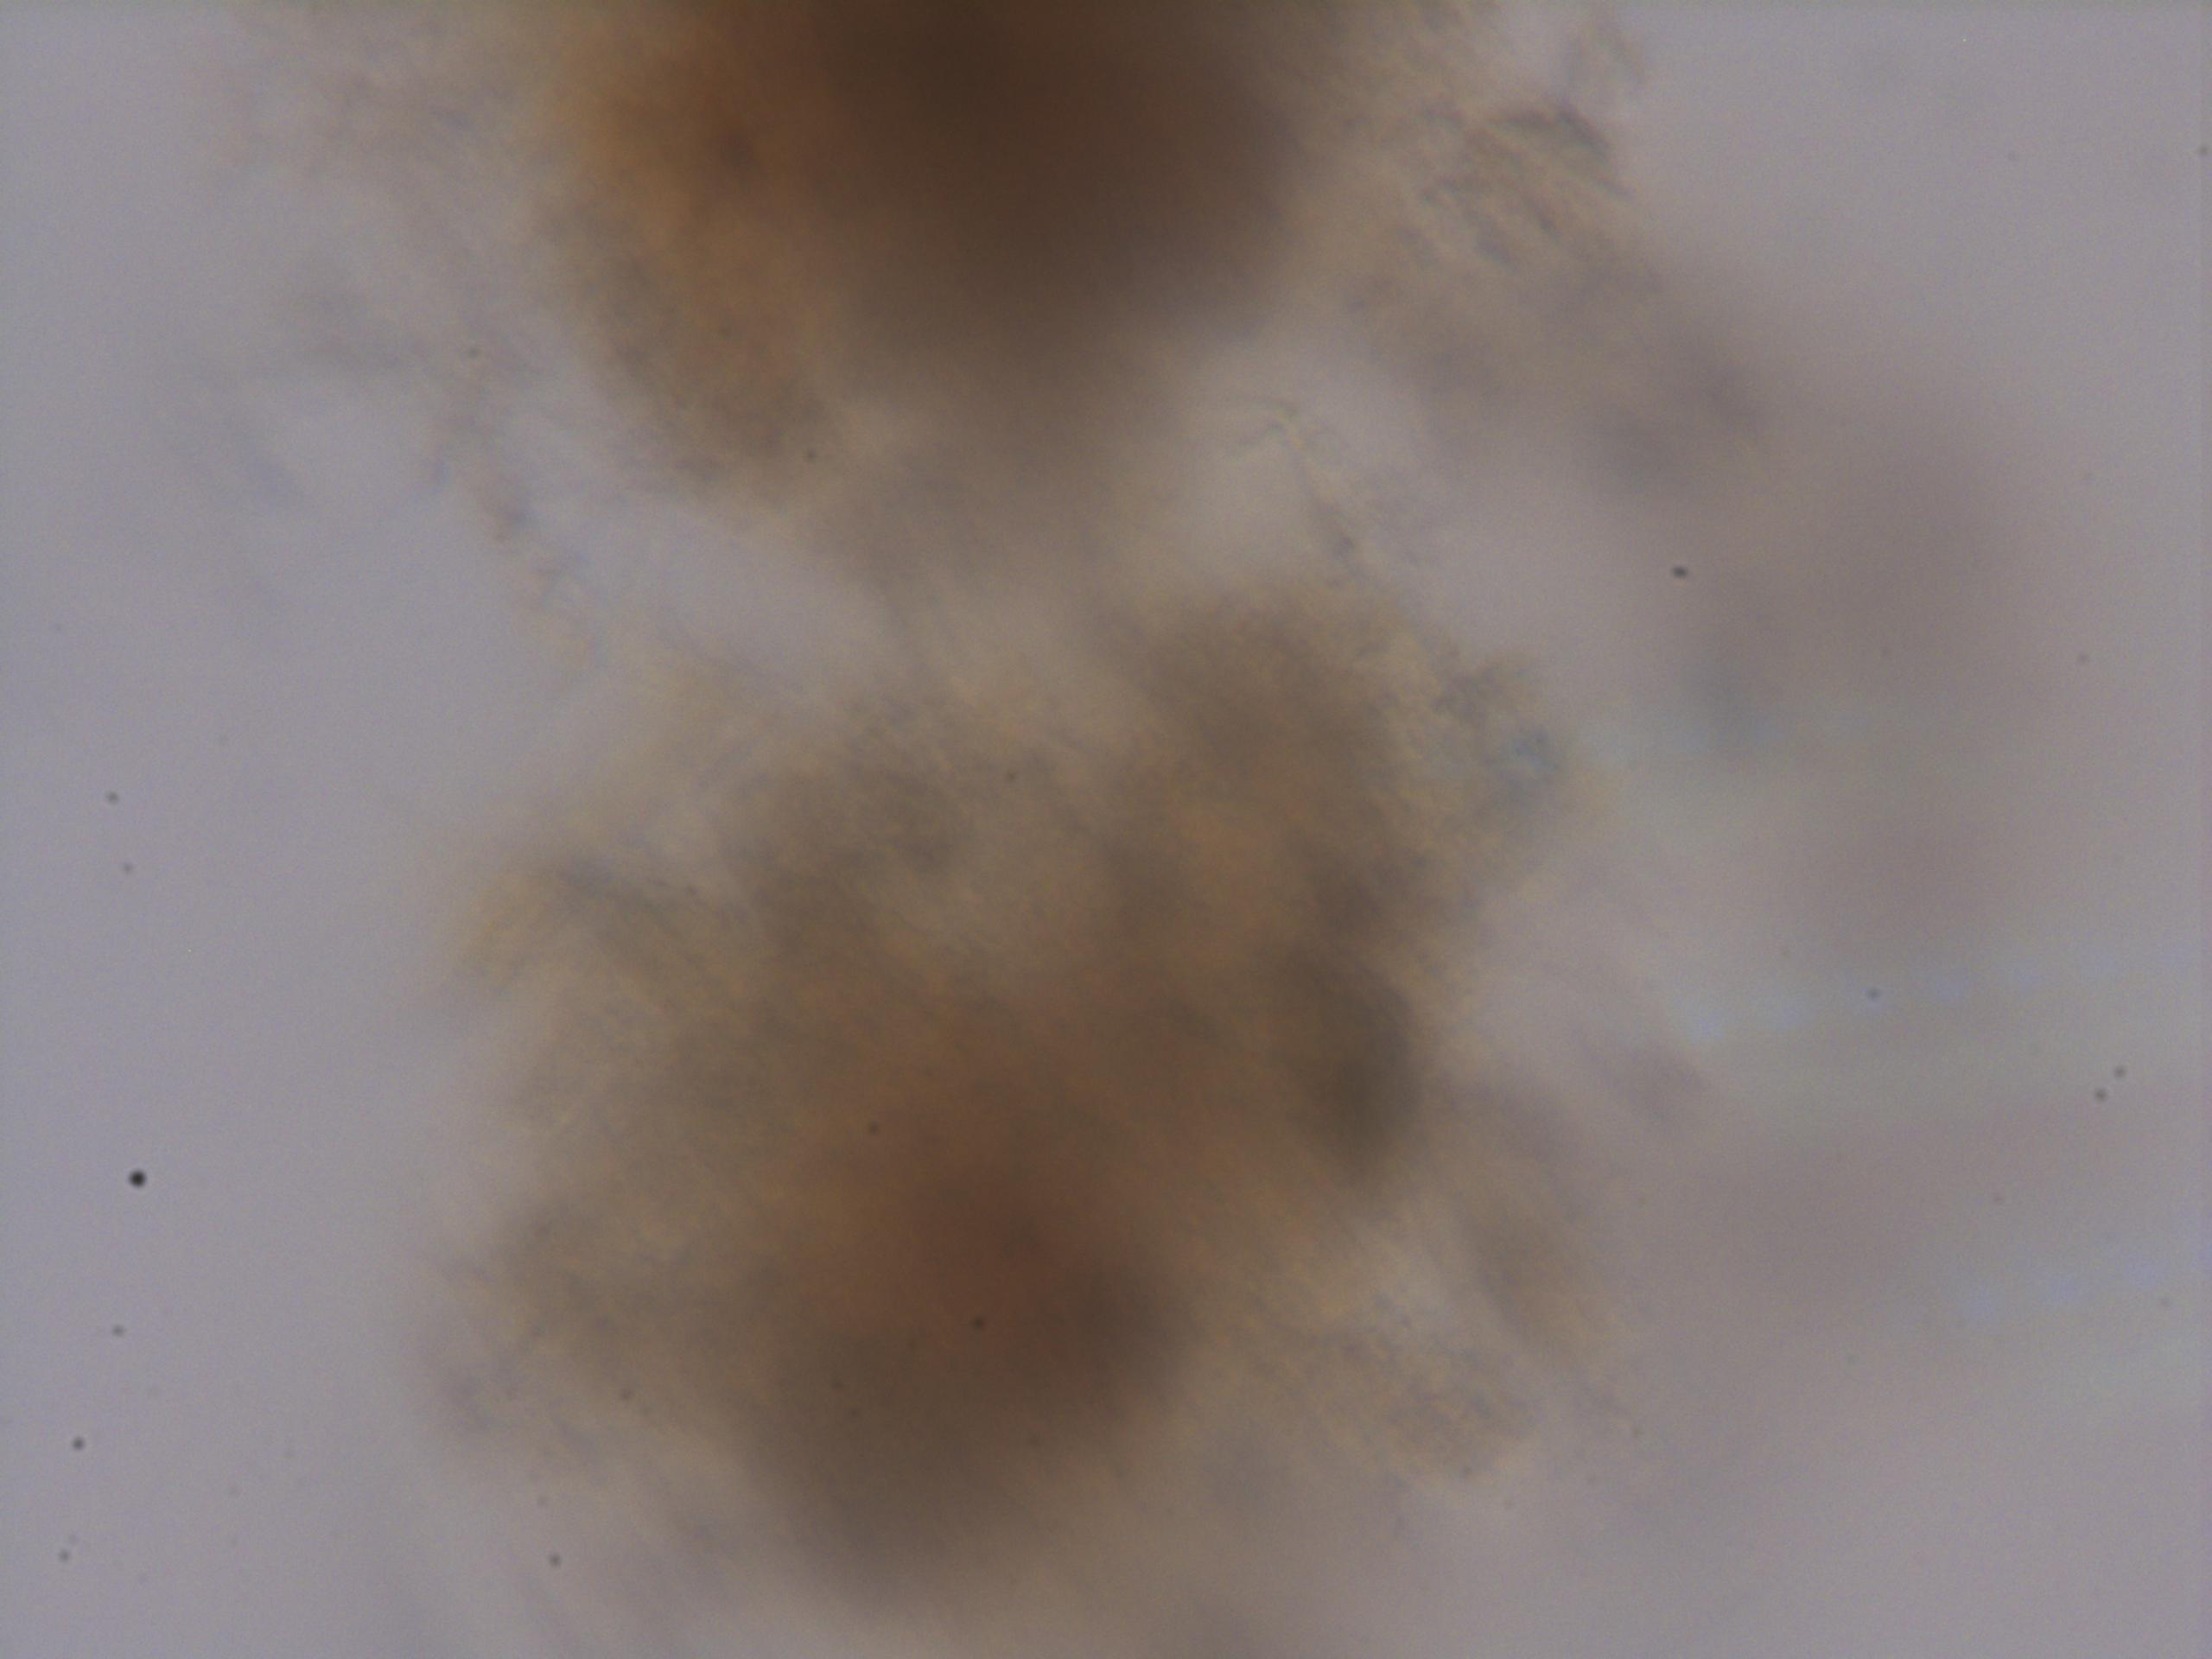spherical_floc: (465, 572, 1550, 1601)
